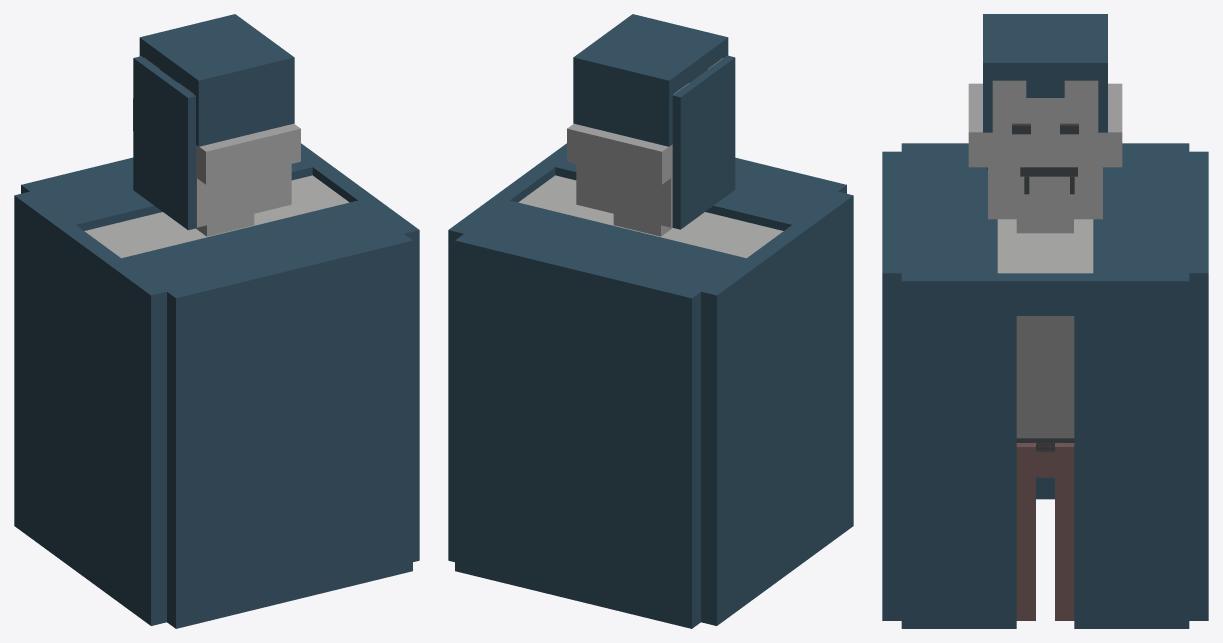
Rendered from drac.fbx.
The picture shows the model from 3 angles, left to right: view 1: azimuth 30°, elevation 25°; view 2: azimuth 150°, elevation 25°; view 3: azimuth 270°, elevation 25°; orthographic projection. The views are drawn at different scales.
Visible parts, largest first — view 1: cloak3, hair, head, shirt1; view 2: cloak3, hair, head, shirt1; view 3: cloak3, head, shirt1, hair, trousers_belt, features.
Part boxes in pixels (<box>): cloak3: <box>14,143,419,628</box>; hair: <box>133,14,294,230</box>; head: <box>133,58,300,236</box>; shirt1: <box>84,175,349,258</box>; cloak3: <box>448,143,853,628</box>; hair: <box>573,14,735,229</box>; head: <box>567,58,723,236</box>; shirt1: <box>518,175,783,258</box>; cloak3: <box>882,143,1208,628</box>; head: <box>968,80,1122,233</box>; shirt1: <box>997,219,1093,438</box>; hair: <box>983,14,1107,169</box>; trousers_belt: <box>1016,438,1074,620</box>; features: <box>1012,123,1078,194</box>.
Size of the model in its own units: 17 by 30 by 17.
